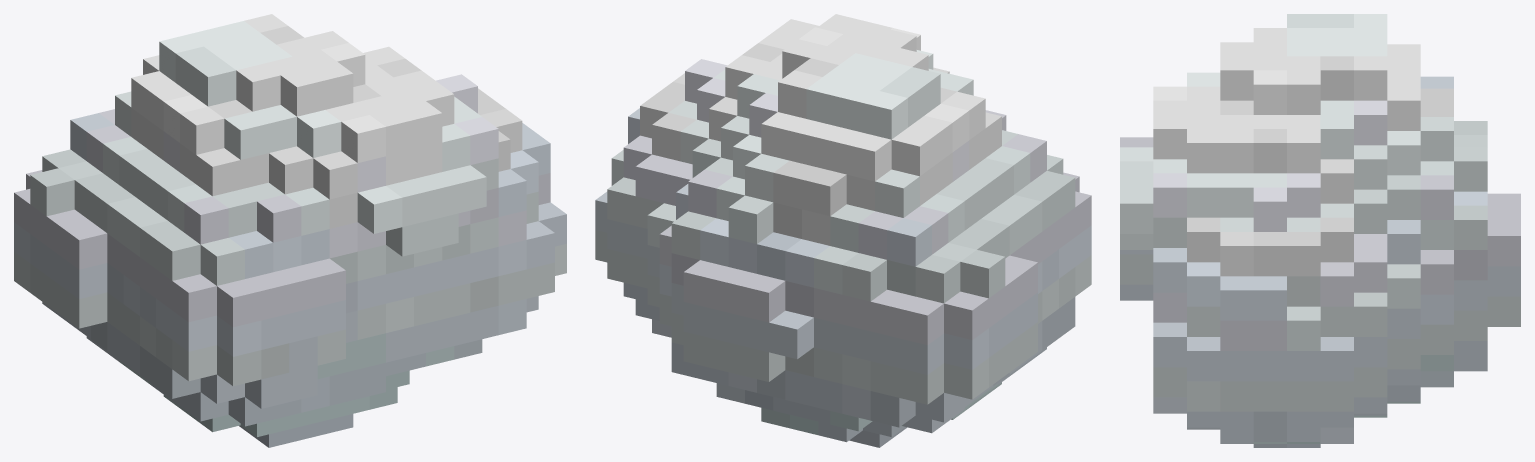
The model's file is cloud_small.glb.
3 views of the same model, side by side, from view 1: azimuth 30°, elevation 25°; view 2: azimuth 150°, elevation 25°; view 3: azimuth 270°, elevation 25° (orthographic). The views are drawn at different scales.
Parts seen in each view (by area): view 1: cloud_small; view 2: cloud_small; view 3: cloud_small.
Part boxes in pixels (box(x1,y1,x2,y2)): cloud_small: box(14, 14, 566, 447); cloud_small: box(595, 14, 1091, 447); cloud_small: box(1120, 14, 1520, 447).
Bounding box in the file's own units: 2.5 × 2 × 2.
Materials: 1 (1 with a texture image).
